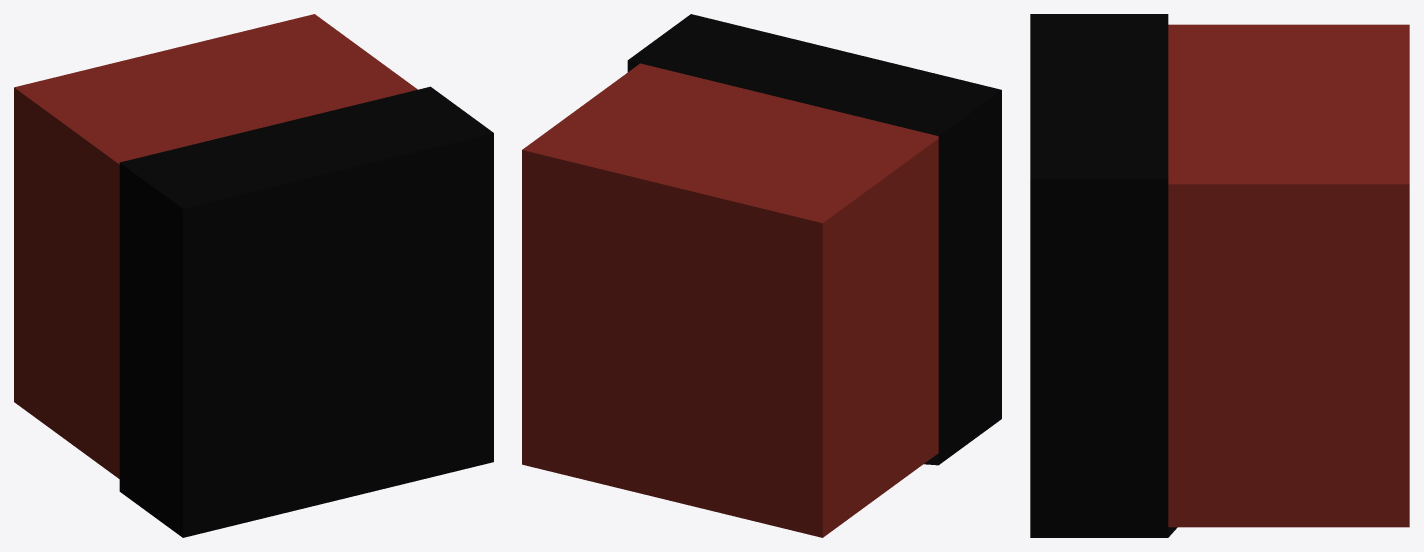
File: enemy2.fbx
The picture shows the model from 3 angles, left to right: view 1: azimuth 30°, elevation 25°; view 2: azimuth 150°, elevation 25°; view 3: azimuth 270°, elevation 25°; orthographic projection. The views are drawn at different scales.
Parts seen in each view (by area): view 1: Enemy; view 2: Enemy; view 3: Enemy.
Part boxes in pixels (<box>): Enemy: <box>14,14,493,537</box>; Enemy: <box>522,14,1001,537</box>; Enemy: <box>1030,14,1409,537</box>.
Size of the model in its own units: 207 by 209 by 201.
